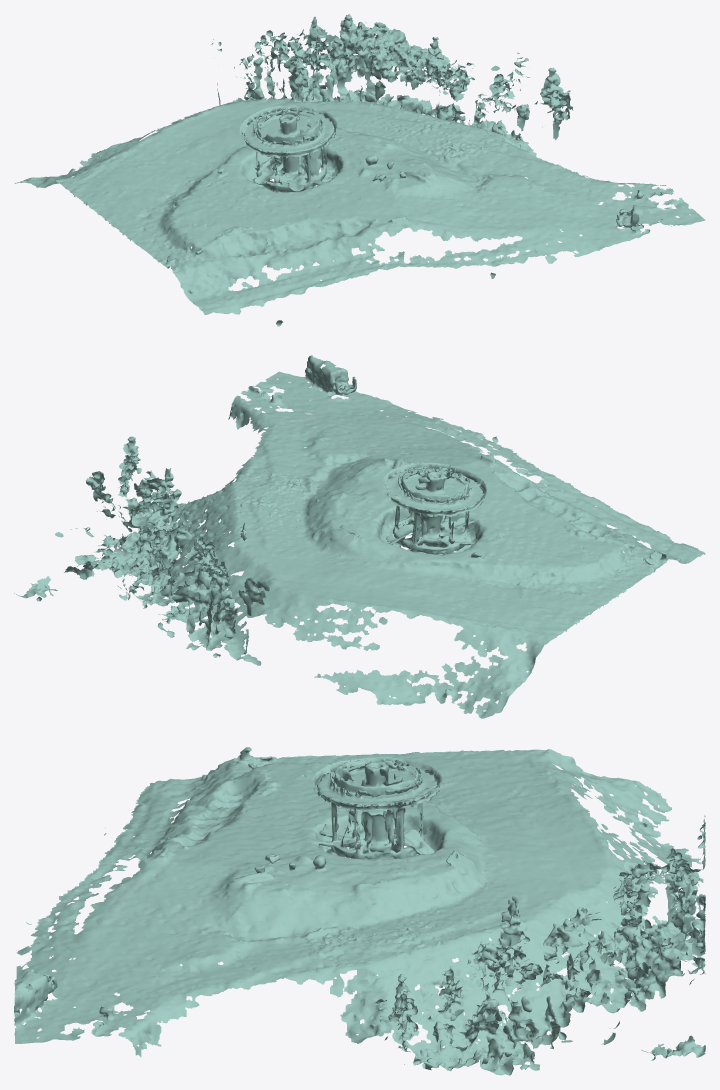
File: scene-collider.glb
3 views of the same model, one above another, from view 1: azimuth 30°, elevation 25°; view 2: azimuth 150°, elevation 25°; view 3: azimuth 270°, elevation 25° (orthographic). The views are drawn at different scales.
Visible parts, largest first — view 1: world; view 2: world; view 3: world.
Boxes of the visible parts, left/top/right/bottom form: world: left=14, top=14, right=705, bottom=326; world: left=14, top=355, right=705, bottom=718; world: left=14, top=747, right=705, bottom=1075.
Size of the model in its own units: 80.02 by 18.95 by 80.
